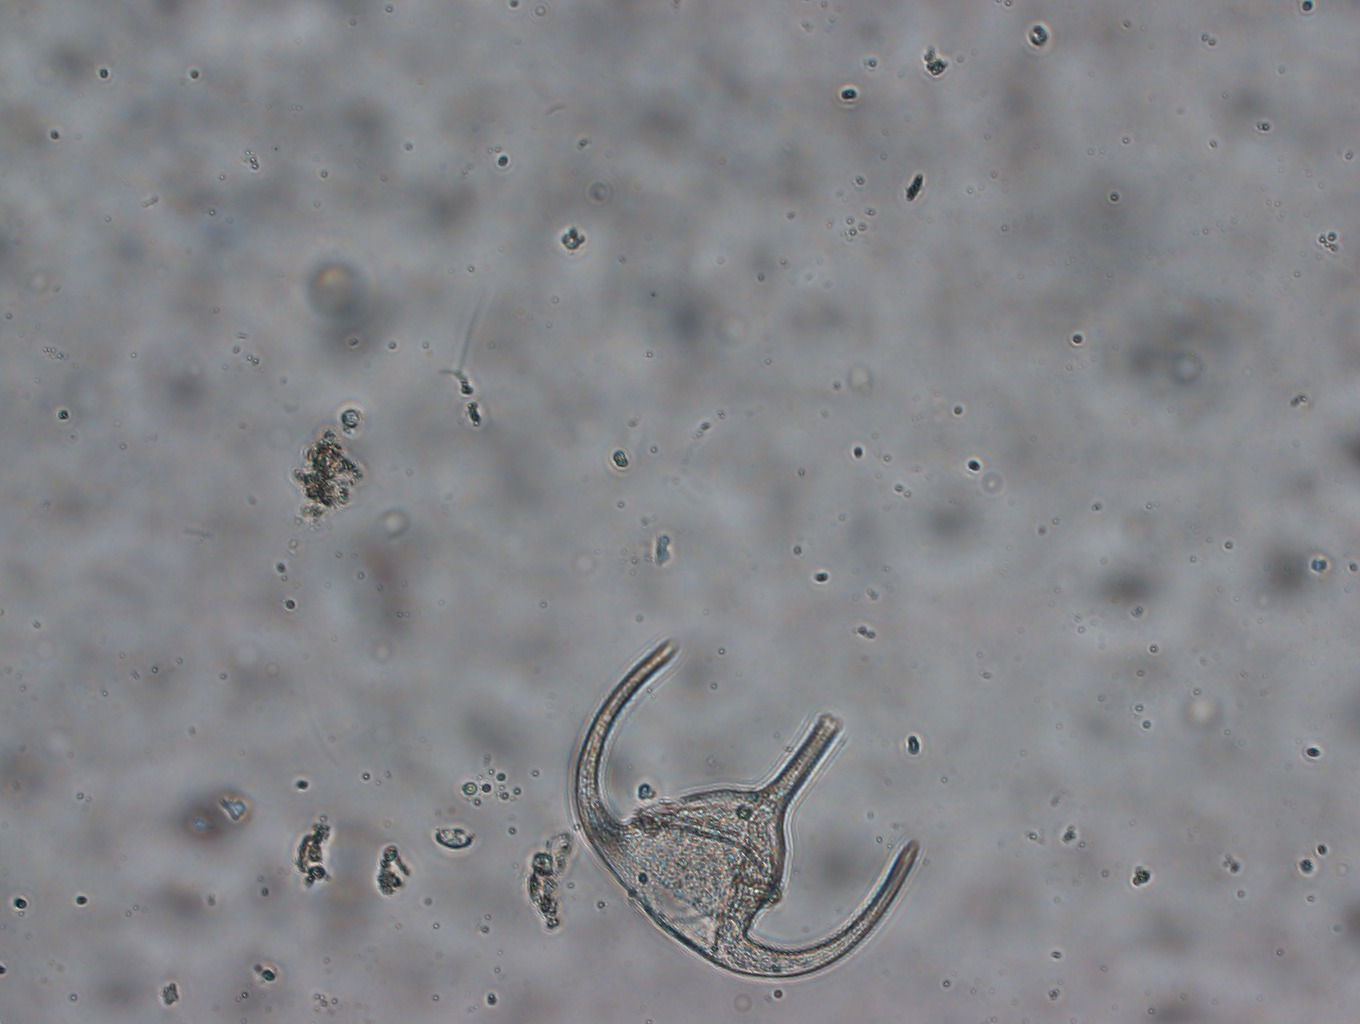ceratium tripos: (572, 639, 920, 978)
